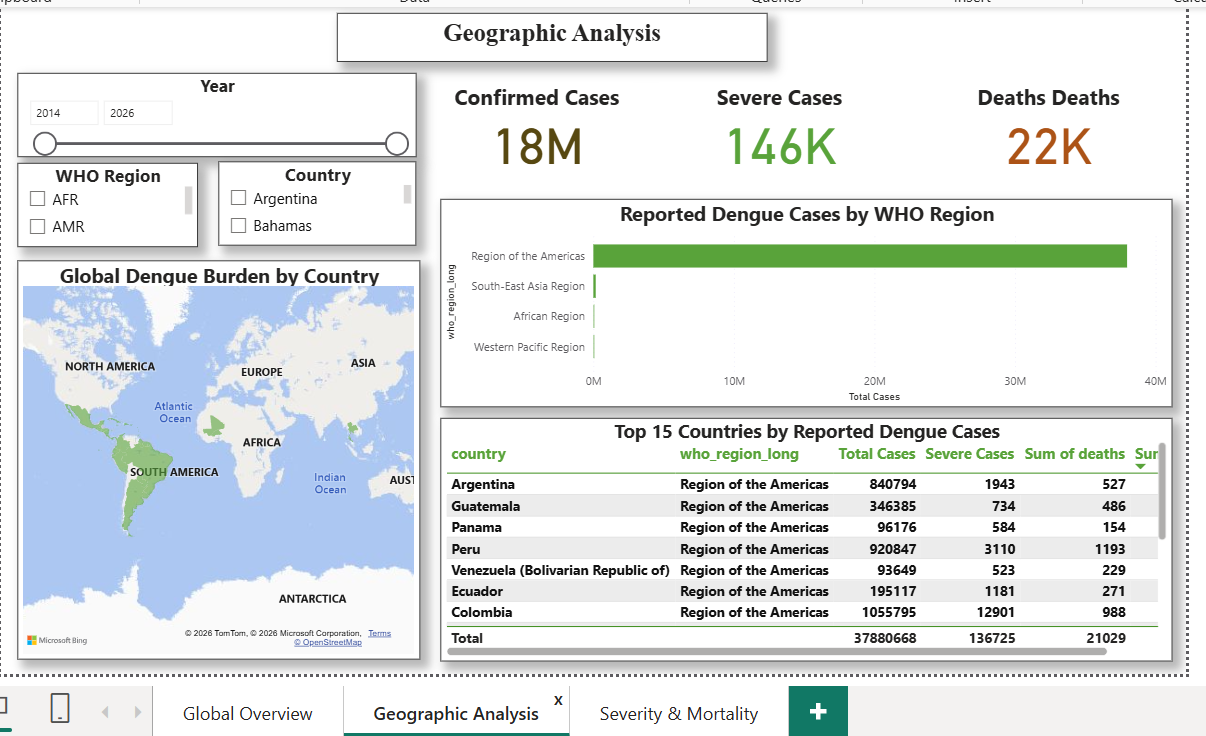

Layout of this report page (visuals, bound fields, positions):
{"tool":"powerbi","page":{"name":"Geographic Analysis","canvas":[1280,720],"ordinal":1},"visuals":[{"type":"textbox","box":[362.8,5.7,464.9,52.9],"z":0},{"type":"slicer","title":"Year","fields":{"Values":["dengue_featured.year"]},"box":[17,71.8,430.9,90.7],"z":2000},{"type":"slicer","title":"WHO Region","fields":{"Values":["dengue_featured.who_region"]},"box":[17,168.2,194.6,90.7],"z":3000},{"type":"slicer","title":"Country","fields":{"Values":["dengue_featured.country"]},"box":[234.3,166.3,213.5,90.7],"z":4000},{"type":"card","title":"Confirmed Cases ","fields":{"Values":["dengue_featured.Confirmed Cases"]},"box":[474.3,81.3,207.9,100.2],"z":4001},{"type":"card","title":"Severe Cases ","fields":{"Values":["dengue_featured.Severe Cases"]},"box":[710.6,81.3,258.9,100.2],"z":4002},{"type":"card","title":"Deaths Deaths ","fields":{"Values":["Sum(dengue_featured.deaths)"]},"box":[997.8,81.3,266.5,100.2],"z":4003},{"type":"clusteredBarChart","title":"Reported Dengue Cases by WHO Region","fields":{"Category":["dengue_featured.who_region_long"],"Y":["dengue_featured.Total Cases"]},"box":[474.3,207.9,789.9,224.9],"z":4004},{"type":"filledMap","title":"Global Dengue Burden by Country","fields":{"Category":["dengue_featured.country"]},"box":[17,274,434.6,430.9],"z":4005},{"type":"tableEx","title":"Top 15 Countries by Reported Dengue Cases","fields":{"Values":["dengue_featured.country","dengue_featured.who_region_long","dengue_featured.Total Cases","dengue_featured.Severe Cases","Sum(dengue_featured.deaths)","Sum(dengue_featured.cfr)"]},"box":[474.3,444.1,789.9,262.7],"z":4006}]}

Visuals, with their boxes on the page's 1280x720 design canvas (x1, y1, x2, y2). These are canvas units, not pixel positions in the 1206x736 screenshot, which may show the page scaled, cropped or inside an application window:
textbox: Rect(363, 6, 828, 59)
"Year" slicer: Rect(17, 72, 448, 162)
"WHO Region" slicer: Rect(17, 168, 212, 259)
"Country" slicer: Rect(234, 166, 448, 257)
"Confirmed Cases " card: Rect(474, 81, 682, 182)
"Severe Cases " card: Rect(711, 81, 970, 182)
"Deaths Deaths " card: Rect(998, 81, 1264, 182)
"Reported Dengue Cases by WHO Region" clusteredBarChart: Rect(474, 208, 1264, 433)
"Global Dengue Burden by Country" filledMap: Rect(17, 274, 452, 705)
"Top 15 Countries by Reported Dengue Cases" tableEx: Rect(474, 444, 1264, 707)
